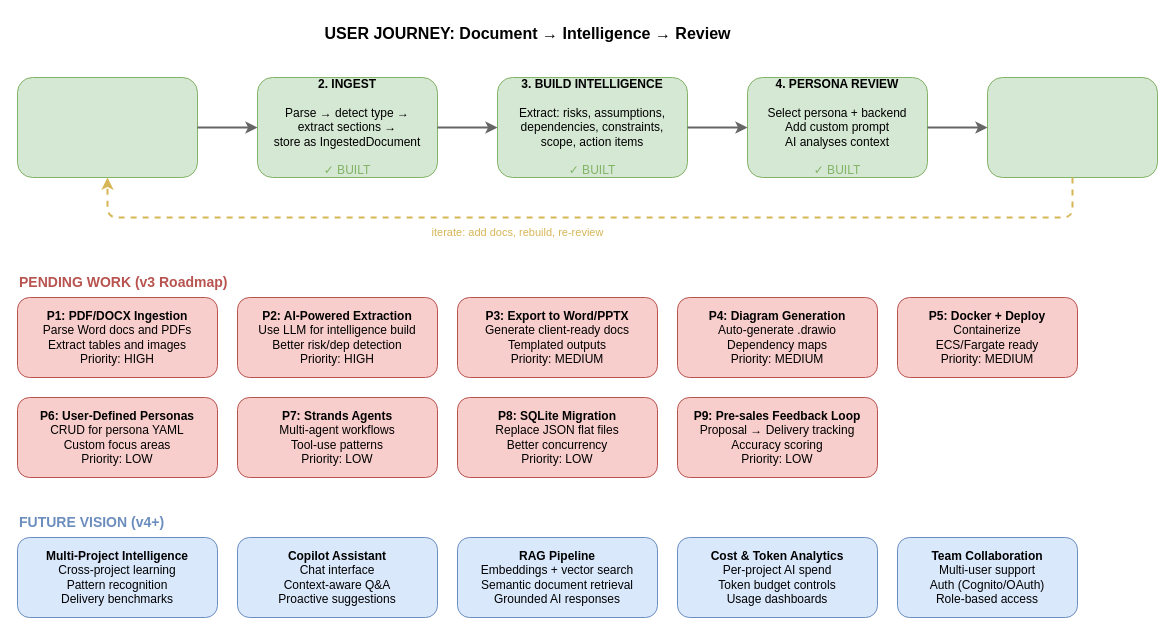
This 1175x635 diagram has some shape labels left out. The shapes that lost their labels are listed below. From the top down, each one's centre as x and y in pixels, then its label:
[107,127]: 1. UPLOAD User provides file paths (.txt, .md, .csv, .eml) ✓ BUILT
[1072,127]: 5. ITERATE Compare versions Track evolution Refine documents ✓ BUILT
